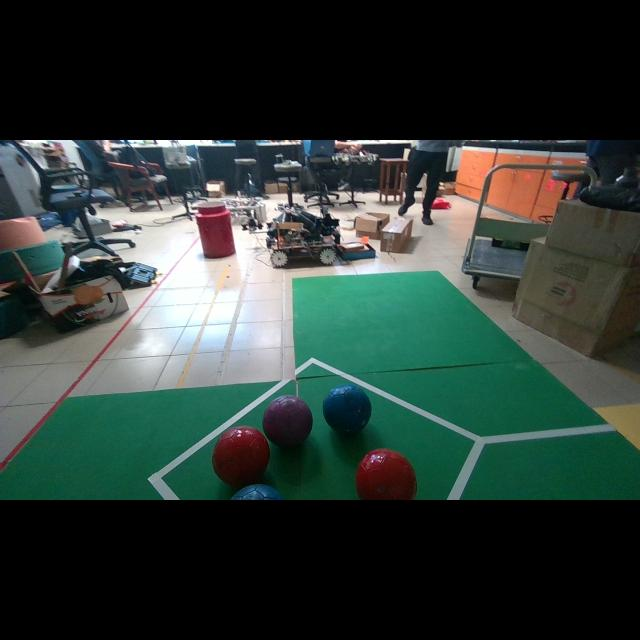B: (322, 384, 371, 435)
P: (262, 395, 312, 448)
R: (212, 426, 270, 488), (355, 449, 418, 500)
